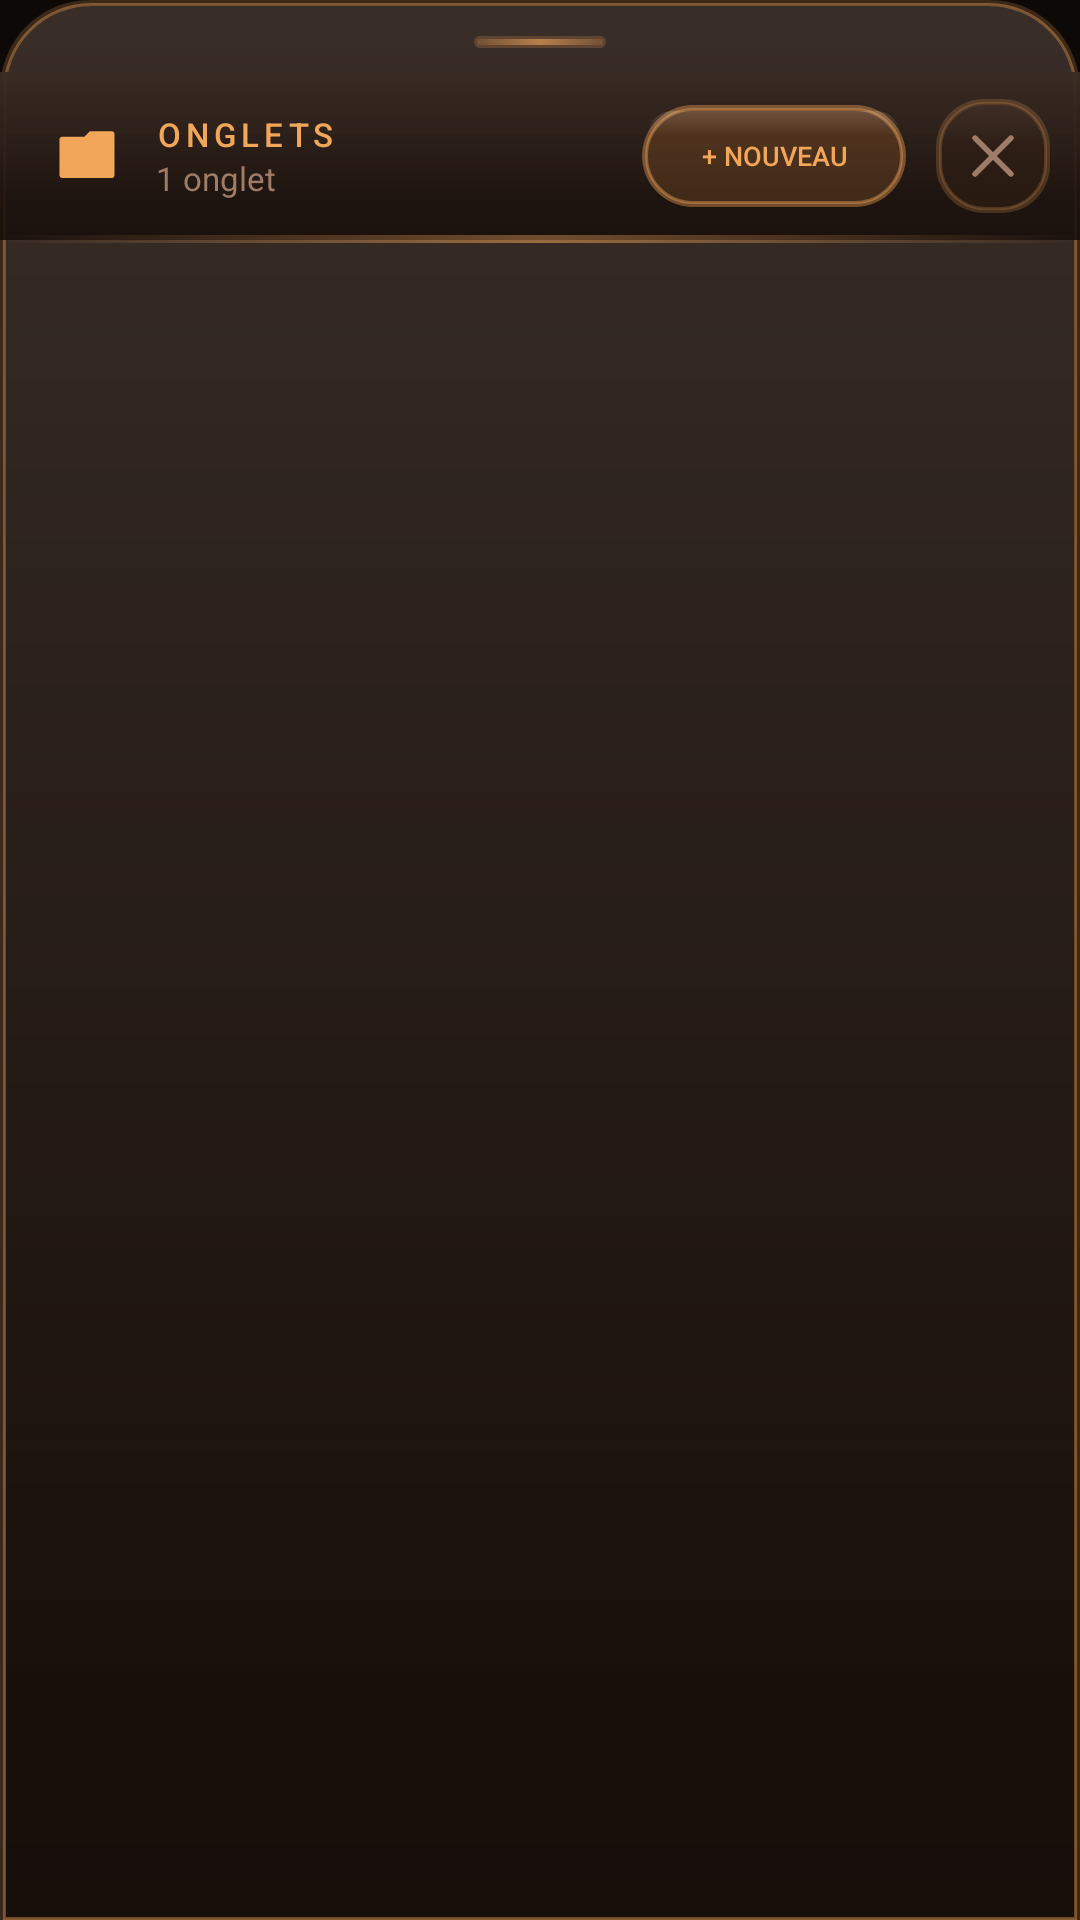

Icon bounding boxes for this 1080x1920 phone screenshot, format [x1=x1, y1=y1, x2=x2, y2=y2]:
Fermer: [x1=936, y1=99, x2=1050, y2=213]
